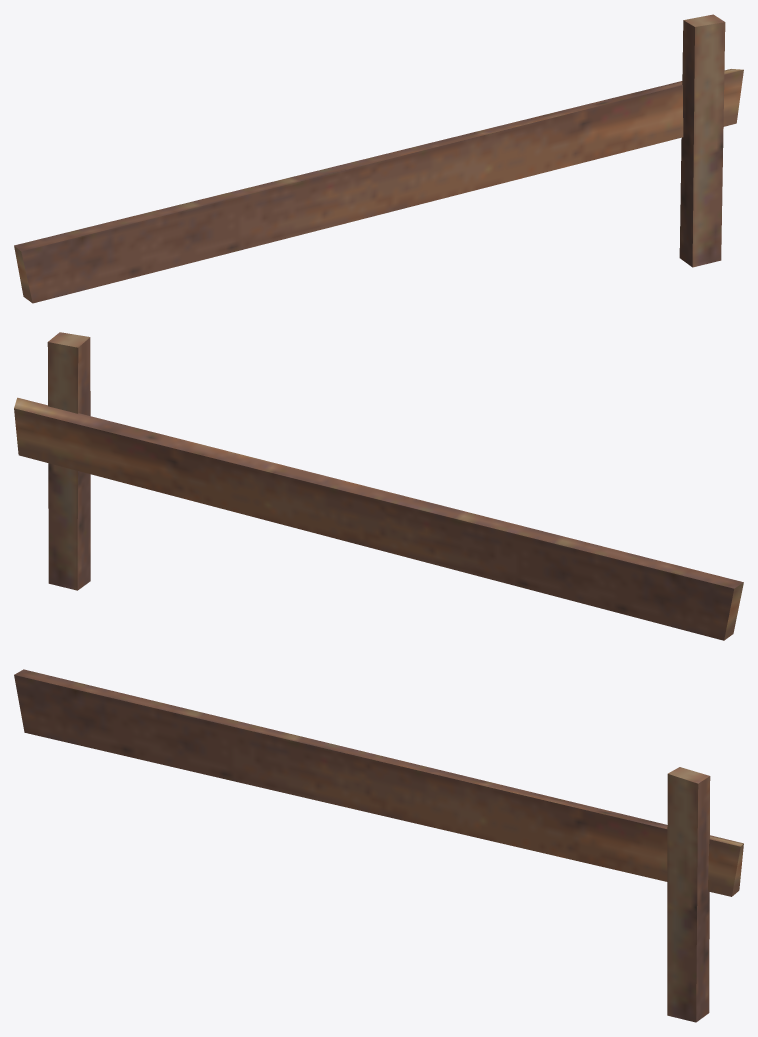
Rendered from fence01.glb.
3 views of the same model, one above another, from view 1: azimuth 30°, elevation 25°; view 2: azimuth 150°, elevation 25°; view 3: azimuth 330°, elevation 25° (orthographic).
Parts seen in each view (by area): view 1: fence01_elements_0; view 2: fence01_elements_0; view 3: fence01_elements_0.
Part boxes in pixels (box(x1,y1,x2,y2)): fence01_elements_0: box(14, 14, 743, 303); fence01_elements_0: box(14, 332, 743, 640); fence01_elements_0: box(14, 669, 743, 1022).
Bounding box in the file's own units: 4.09 × 1.31 × 0.2117.
Materials: 1 (1 with a texture image).
